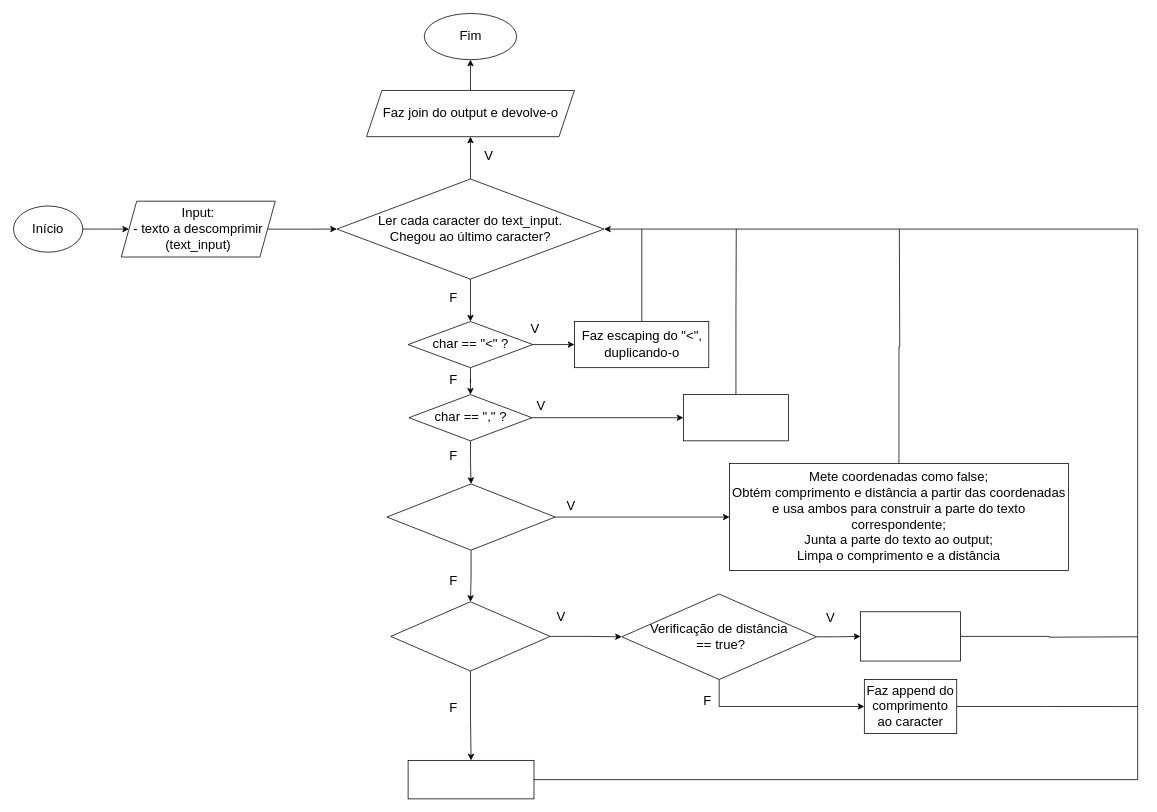
Some shapes in this 1157 by 812 pixel diagram are drawn without their labels. Here are the shapes that lost their labels. From the top down, the centre of each, then its label:
point 735,417: Mete verificação de distância como false
point 470,516: char == ">" e é de coordenadas?
point 470,636: char == coordenadas?
point 910,636: Faz append da distância ao caracter
point 470,779: Faz append do caracter ao output
